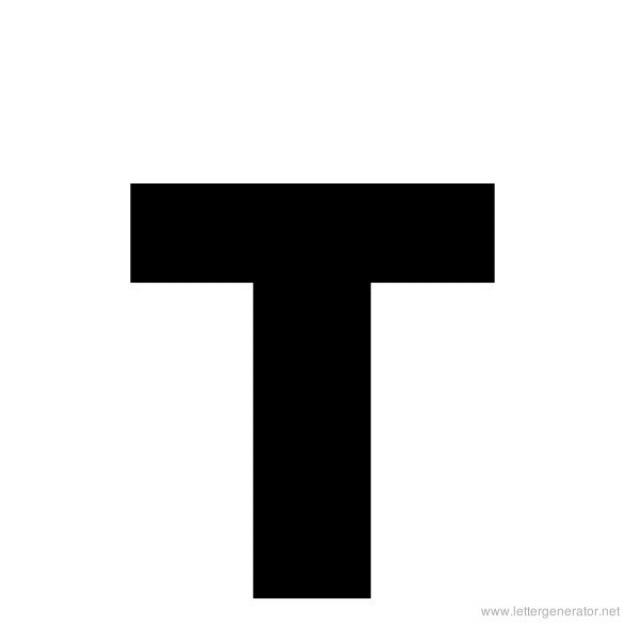T: (94, 148, 544, 628)
